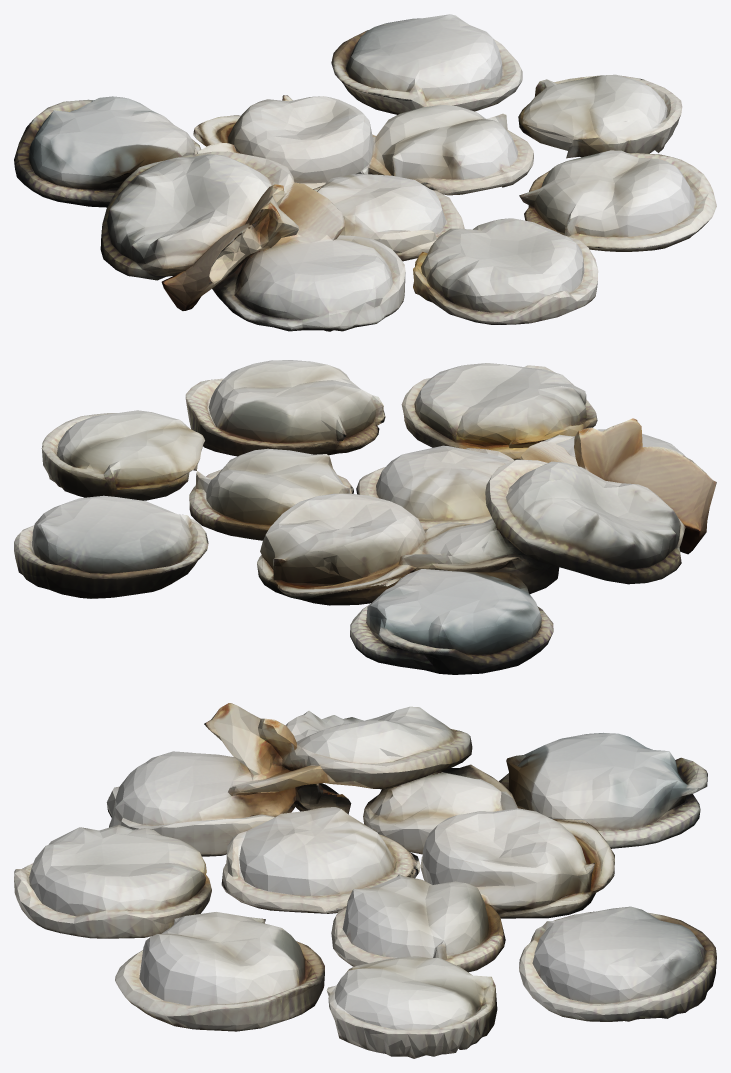
The model's file is organic-cotton-makeup-remover-pads-3d.jpeg.glb.
3 views of the same model, one above another, from view 1: azimuth 30°, elevation 25°; view 2: azimuth 150°, elevation 25°; view 3: azimuth 270°, elevation 25° (orthographic). The views are drawn at different scales.
Visible parts, largest first — view 1: world; view 2: world; view 3: world.
Boxes of the visible parts, left/top/right/bottom form: world: left=14, top=14, right=716, bottom=331; world: left=14, top=360, right=716, bottom=674; world: left=14, top=703, right=716, bottom=1058.
Size of the model in its own units: 0.9885 by 0.1635 by 0.9488.
Materials: 1 (1 with a texture image).
